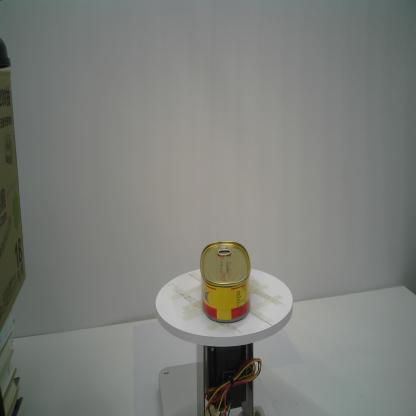Canned Food: (199, 240, 252, 323)
